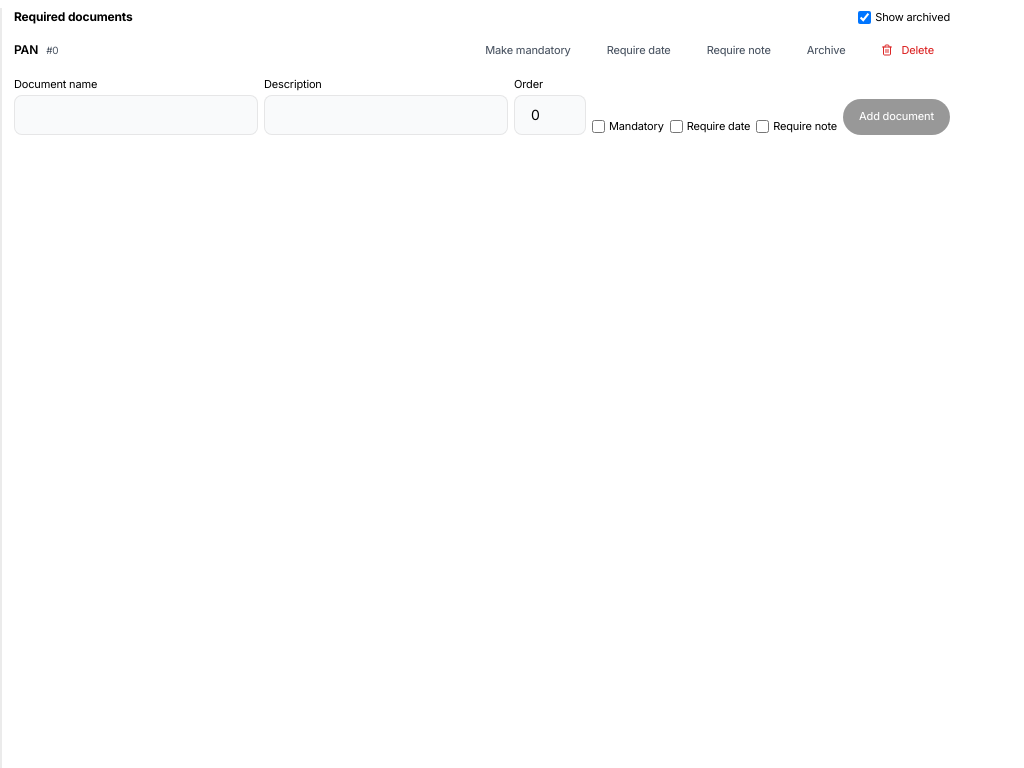
Test case: ComponentDocumentsPanel › disables the Delete button while the delete mutation is pending (no double-submit)
Click the button with aria-label "Delete PAN" at [908, 50], box [865, 32, 950, 68]
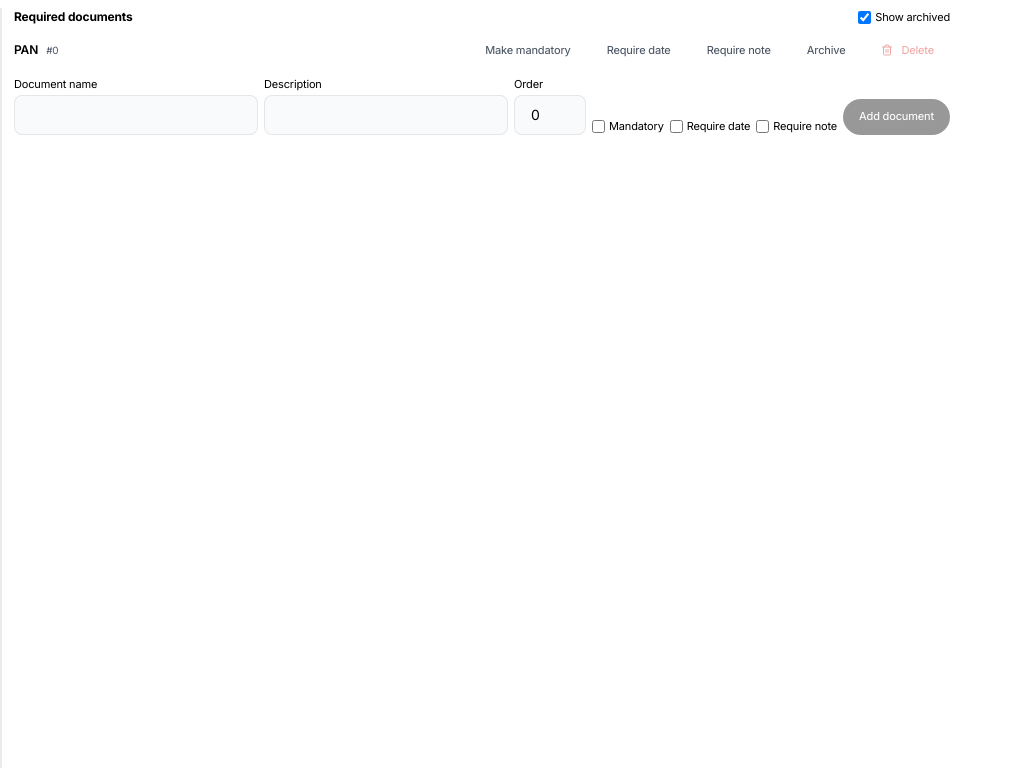
Expected: the button with aria-label "Delete PAN" is disabled, [865, 32, 950, 68]
